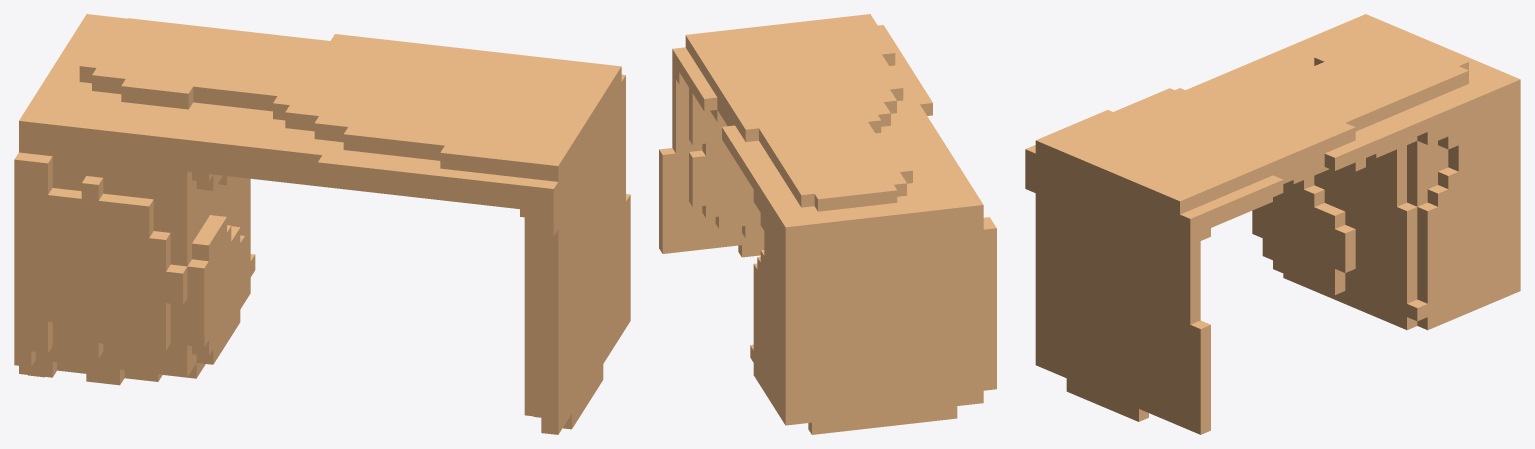
Rendered from Office_Desk.glb.
3 views of the same model, side by side, from view 1: azimuth 30°, elevation 25°; view 2: azimuth 150°, elevation 25°; view 3: azimuth 270°, elevation 25° (orthographic). The views are drawn at different scales.
Parts seen in each view (by area): view 1: prediction; view 2: prediction; view 3: prediction.
Boxes of the visible parts, left/top/right/bottom form: prediction: left=14, top=14, right=630, bottom=434; prediction: left=659, top=14, right=996, bottom=434; prediction: left=1025, top=14, right=1520, bottom=434.
Bounding box in the file's own units: 13.86 × 7.2 × 13.58.
